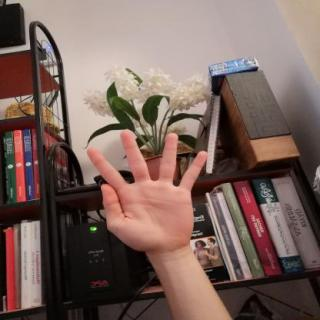SHEEN: (81, 125, 220, 257)
